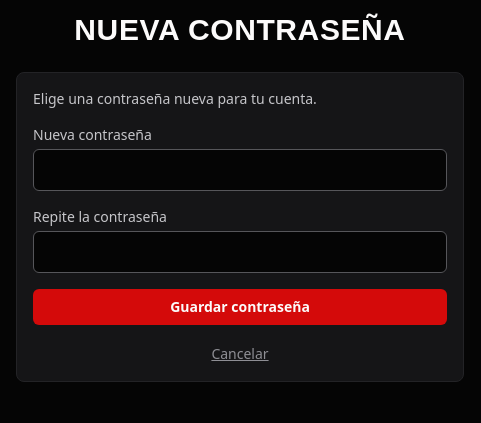
Scenario: ResetPasswordPage › exige al menos 6 caracteres
Step 1. Type "123" into the password field labelled "Nueva contraseña" → {"x": 240, "y": 170}, box [33, 149, 447, 191]
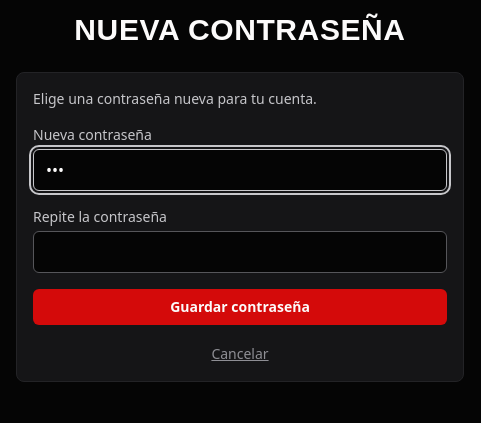
Step 2. Type "123" into the password field labelled "Repite la contraseña" → {"x": 240, "y": 252}, box [33, 231, 447, 273]
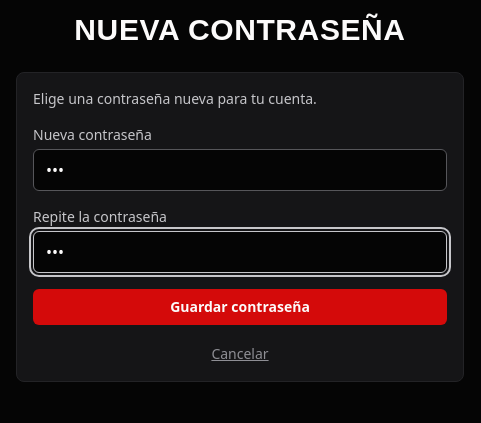
Step 3. Click the button "Guardar contraseña" → {"x": 240, "y": 307}, box [33, 289, 447, 325]
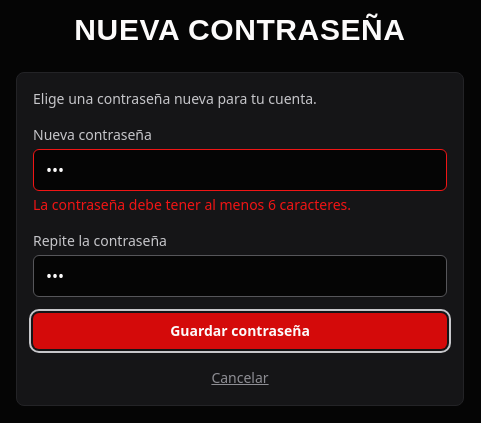
Expected: the text "La contraseña debe tener al menos 6 caracteres." is shown, [33, 195, 351, 214]
